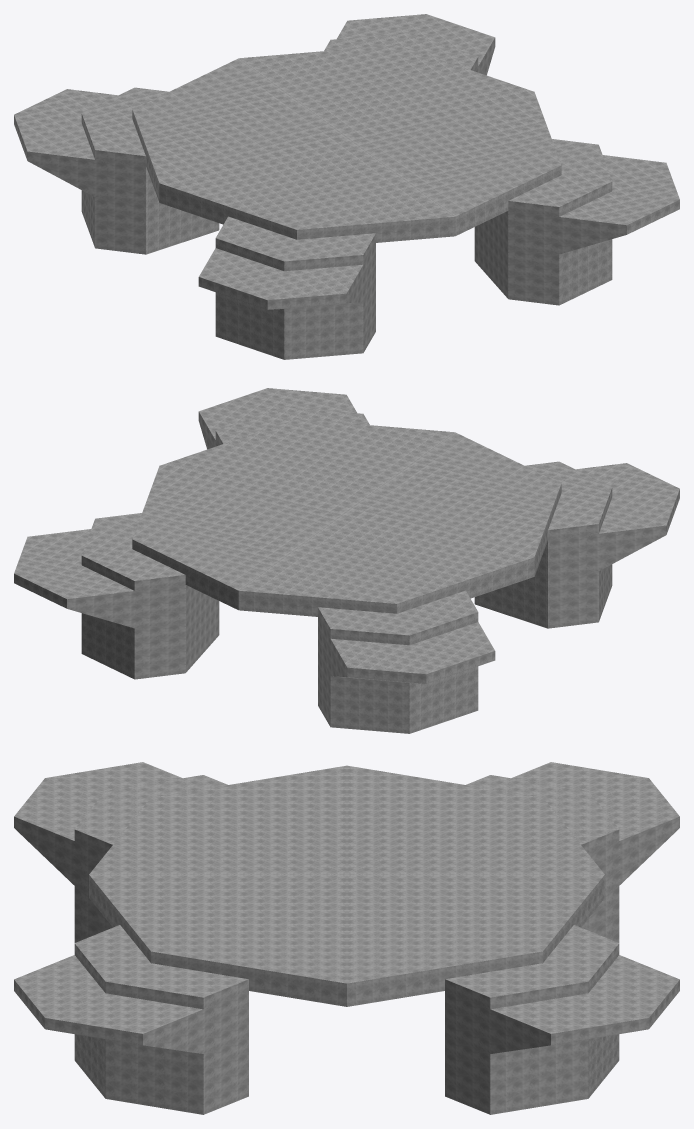
The model's file is CastlePlatform.glb.
3 renders of one model, top to bottom at view 1: azimuth 30°, elevation 25°; view 2: azimuth 150°, elevation 25°; view 3: azimuth 270°, elevation 25°, orthographic. The views are drawn at different scales.
Parts seen in each view (by area): view 1: CastlePlatform-col; view 2: CastlePlatform-col; view 3: CastlePlatform-col.
Boxes of the visible parts, box(x1,y1,x2,y2) form: CastlePlatform-col: box(14, 14, 679, 359); CastlePlatform-col: box(14, 388, 679, 733); CastlePlatform-col: box(14, 762, 679, 1114).
Size of the model in its own units: 49.89 by 11.03 by 51.64.
Materials: 1 (1 with a texture image).
